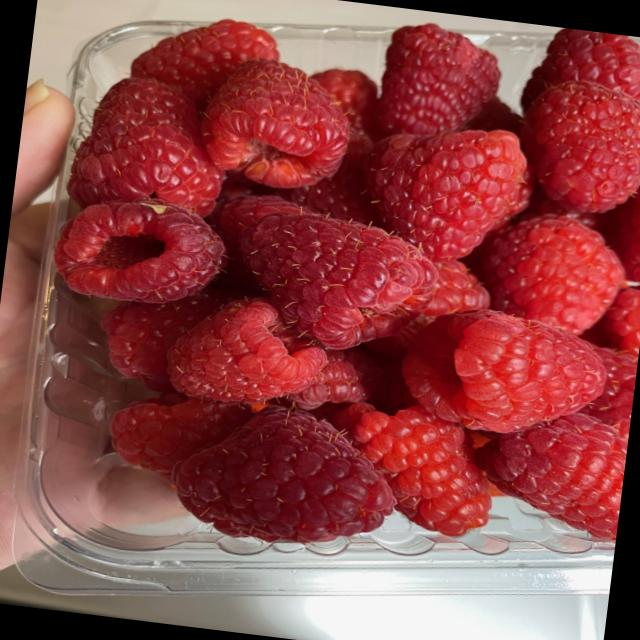raspberries: (25, 0, 640, 614)
